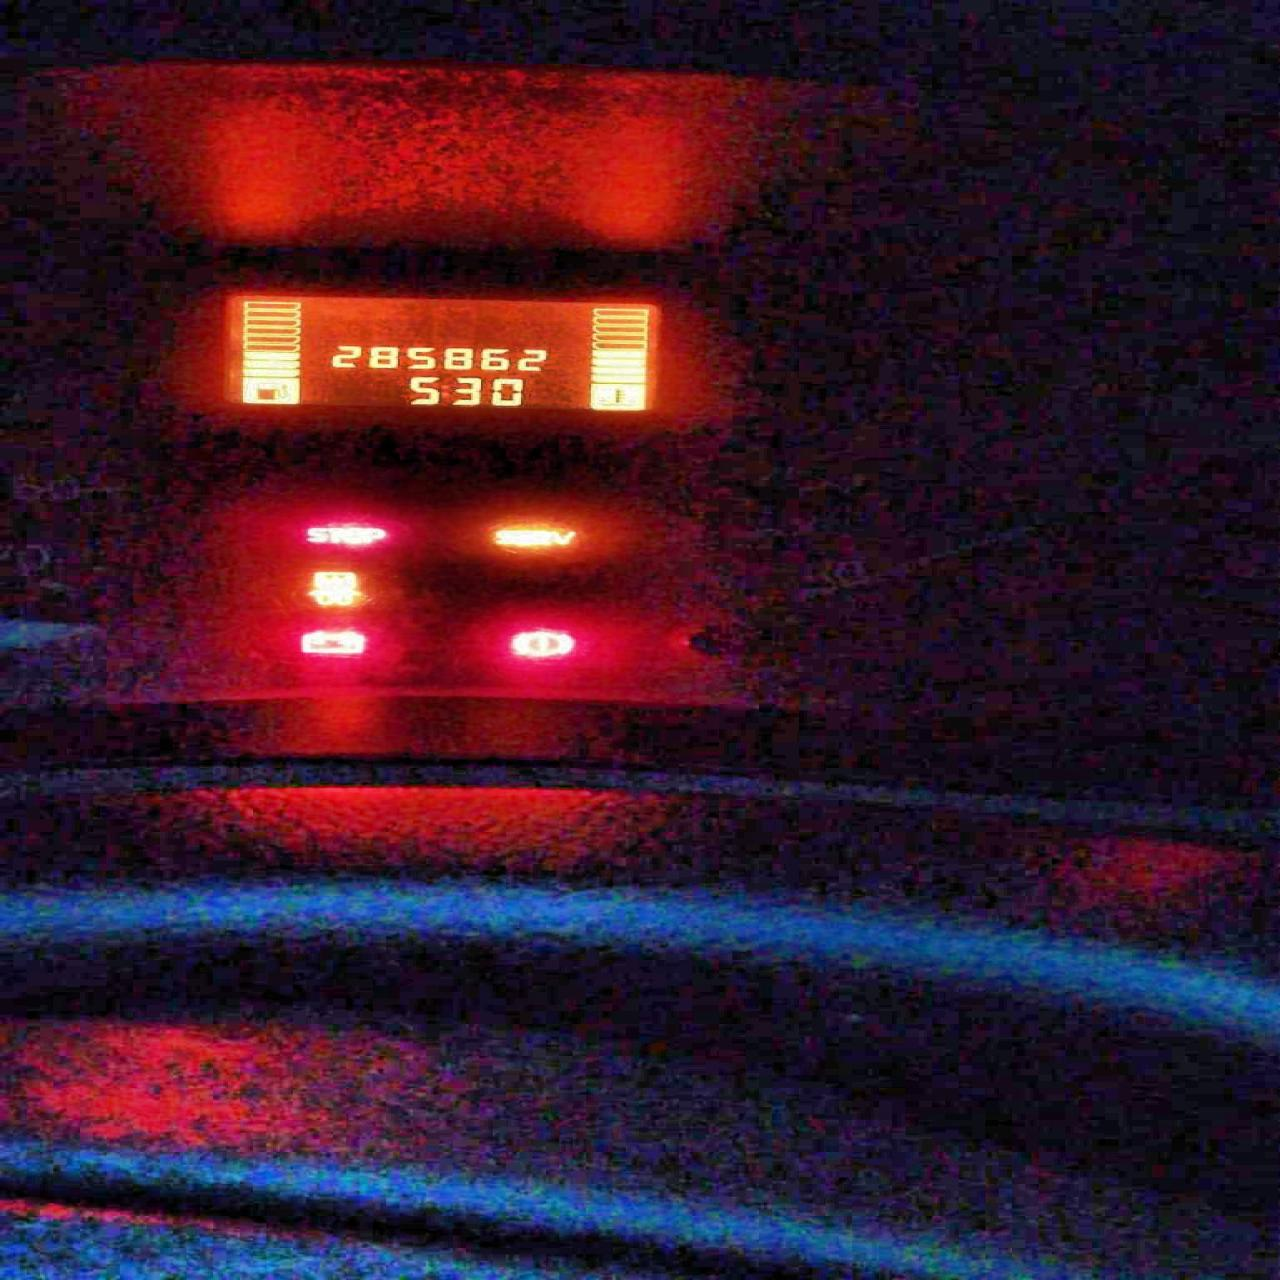0: (488, 377, 523, 406)
2: (329, 345, 360, 367), (515, 349, 546, 370)
3: (451, 376, 481, 406)
5: (408, 376, 440, 404), (404, 346, 435, 369)
6: (478, 348, 509, 370)
8: (441, 347, 472, 369), (366, 346, 397, 368)
odometer: (217, 292, 665, 413)
